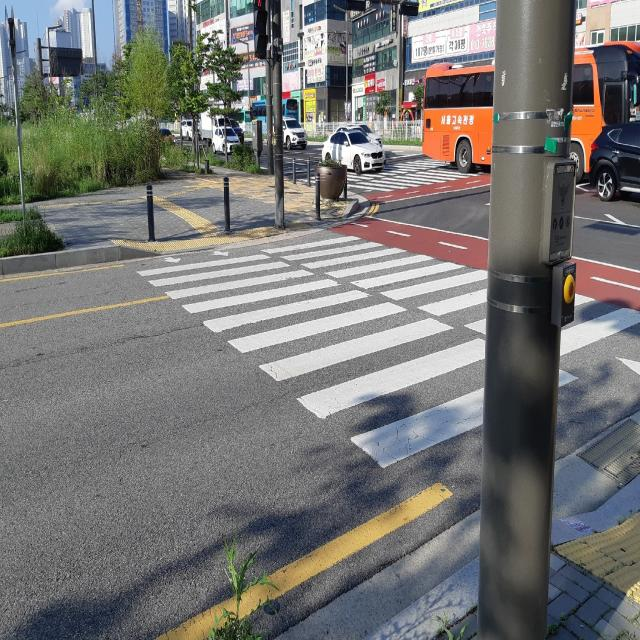횡단보도: (136, 236, 640, 467)
